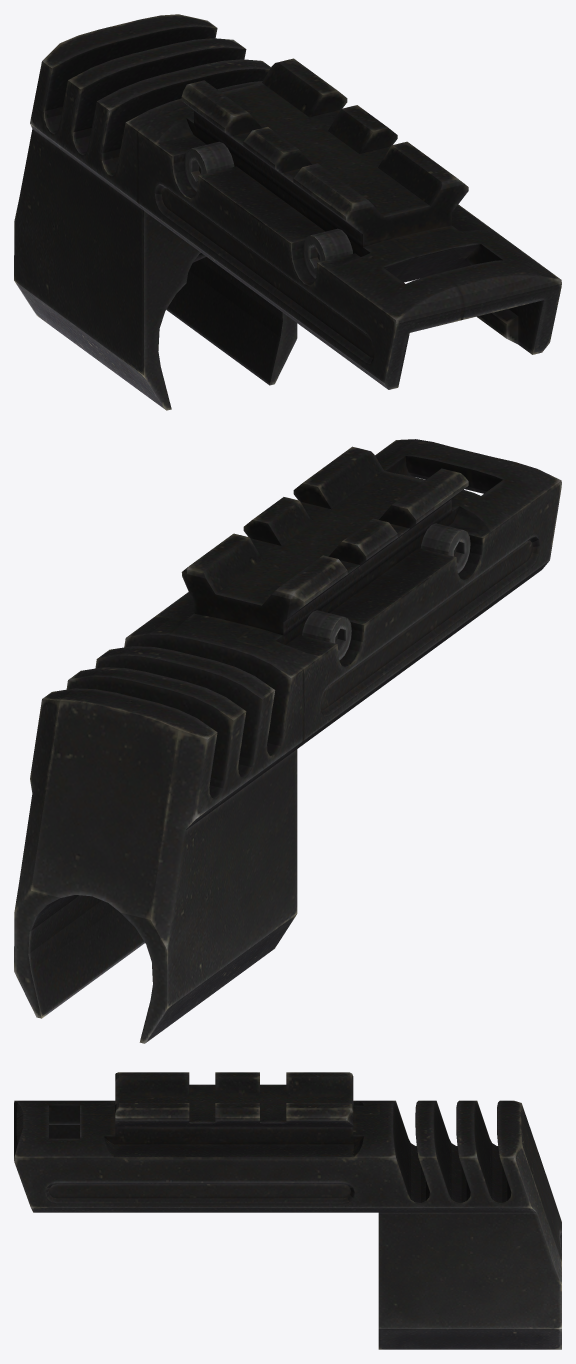
3 renders of one model, top to bottom at view 1: azimuth 30°, elevation 25°; view 2: azimuth 150°, elevation 25°; view 3: azimuth 270°, elevation 25°, orthographic. The views are drawn at different scales.
Parts seen in each view (by area): view 1: TW_619624b26db0f2477964e6b0_PZ_Import; view 2: TW_619624b26db0f2477964e6b0_PZ_Import; view 3: TW_619624b26db0f2477964e6b0_PZ_Import.
Part boxes in pixels (bbox=[...]): TW_619624b26db0f2477964e6b0_PZ_Import: bbox=[14, 14, 561, 410]; TW_619624b26db0f2477964e6b0_PZ_Import: bbox=[14, 439, 561, 1043]; TW_619624b26db0f2477964e6b0_PZ_Import: bbox=[14, 1072, 561, 1349].
Bounding box in the file's own units: 0.0163 × 0.0663 × 0.0321.
Materials: 1 (1 with a texture image).
